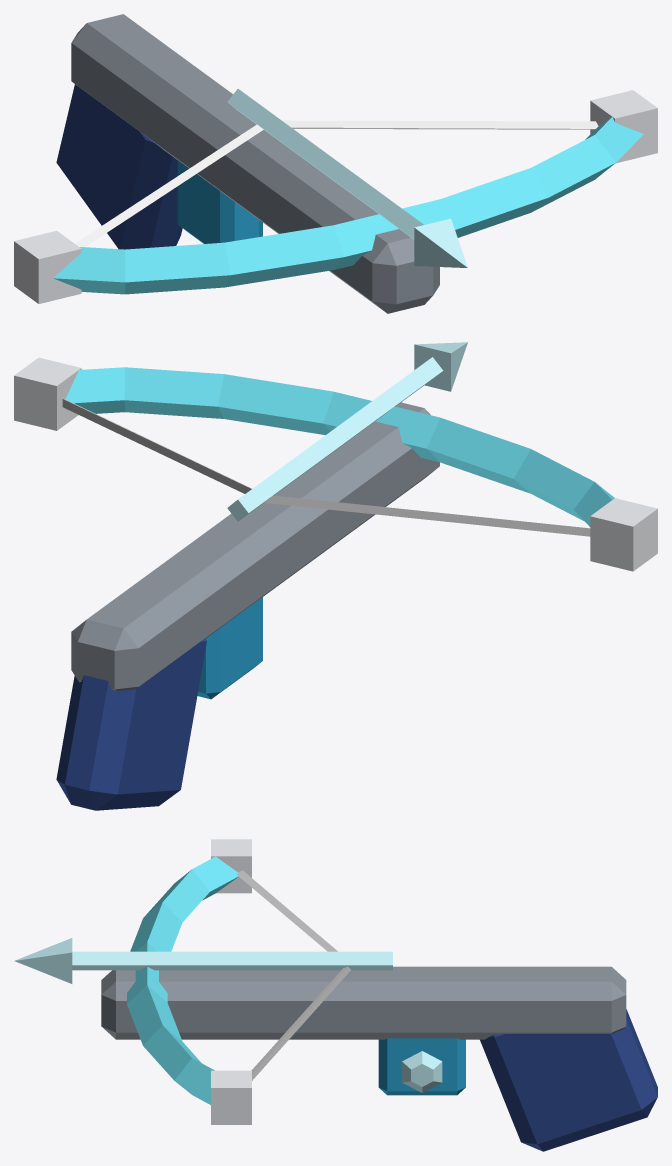
File: DiamondCrossbow.fbx
3 renders of one model, top to bottom at view 1: azimuth 30°, elevation 25°; view 2: azimuth 150°, elevation 25°; view 3: azimuth 270°, elevation 25°, orthographic. The views are drawn at different scales.
Parts seen in each view (by area): view 1: DiamondCrossbow; view 2: DiamondCrossbow; view 3: DiamondCrossbow.
Boxes of the visible parts, x1=… form: DiamondCrossbow: x1=14, y1=14, x2=657, y2=313; DiamondCrossbow: x1=14, y1=342, x2=657, y2=810; DiamondCrossbow: x1=14, y1=839, x2=657, y2=1151.
Size of the model in its own units: 2.02 by 0.7634 by 2.21.
1 material, 1 textured.
